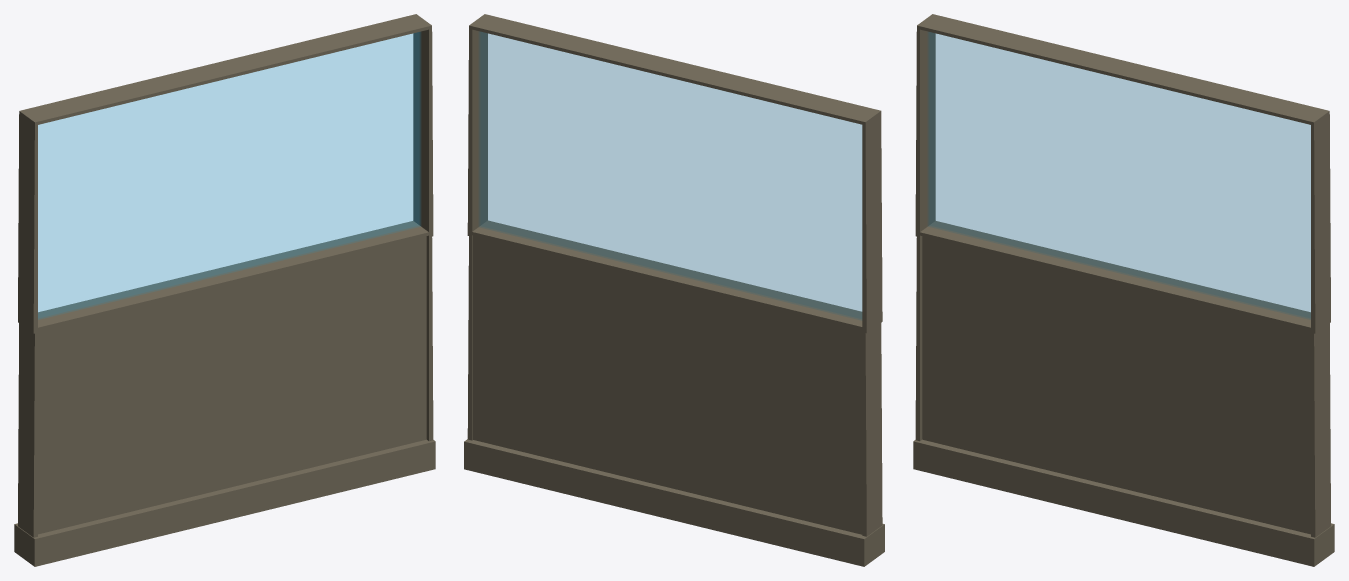
Rendered from SM_wall_lowlevel_03.fbx.
3 views of the same model, side by side, from view 1: azimuth 30°, elevation 25°; view 2: azimuth 150°, elevation 25°; view 3: azimuth 330°, elevation 25° (orthographic).
Parts seen in each view (by area): view 1: wall_lowlevel_03; view 2: wall_lowlevel_03; view 3: wall_lowlevel_03.
Part boxes in pixels (x1,y1,x2,y2): wall_lowlevel_03: [14, 14, 435, 566]; wall_lowlevel_03: [464, 14, 884, 566]; wall_lowlevel_03: [913, 14, 1334, 566].
Bounding box in the file's own units: 227 × 239 × 20.12.
